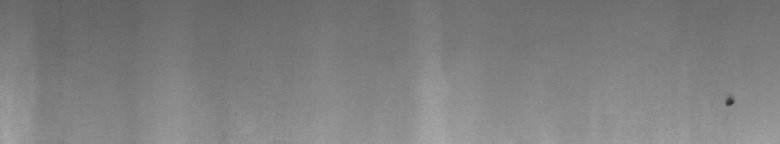fi: (721, 88, 740, 112)
